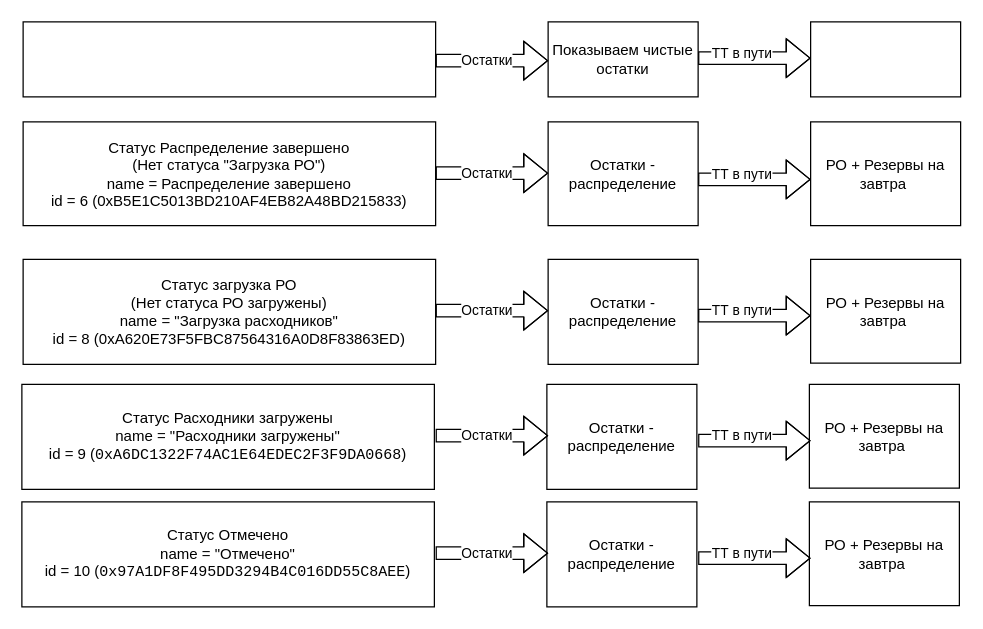
Image size: 983x629. Some labels were removed from this diagram. The shapes that lost their labels are listed below. From the top down, each one's box as (x1, y1, x2, y2) in pixels, then its label:
(22, 21, 436, 97): Не было распределения
(809, 21, 961, 97): Пусто
